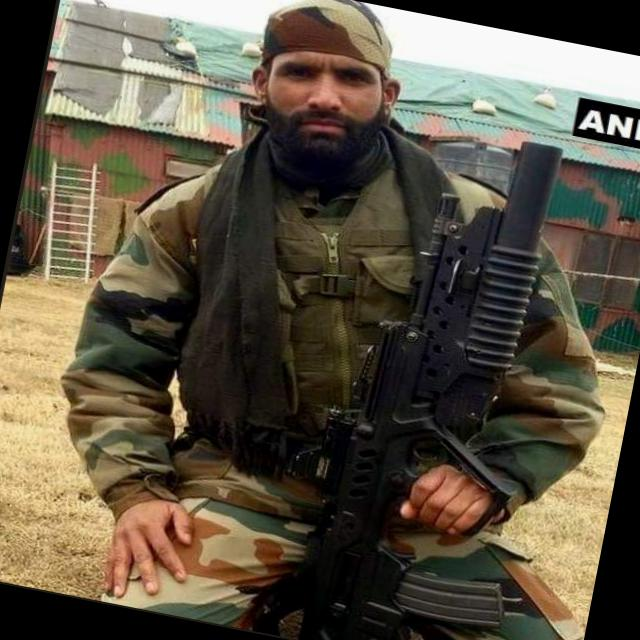long weapon: (270, 102, 613, 639)
